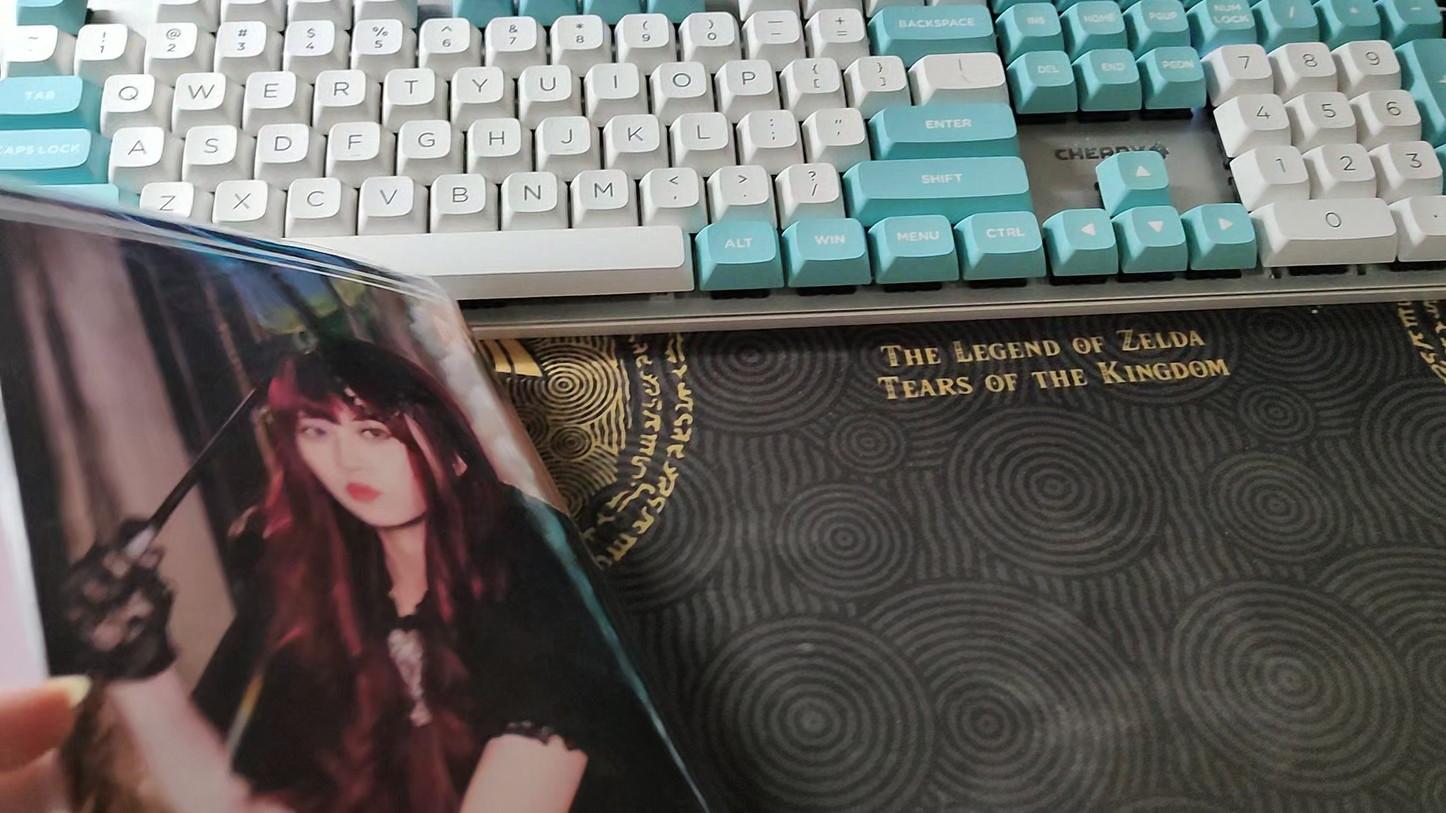Photo_book: (0, 182, 717, 813)
